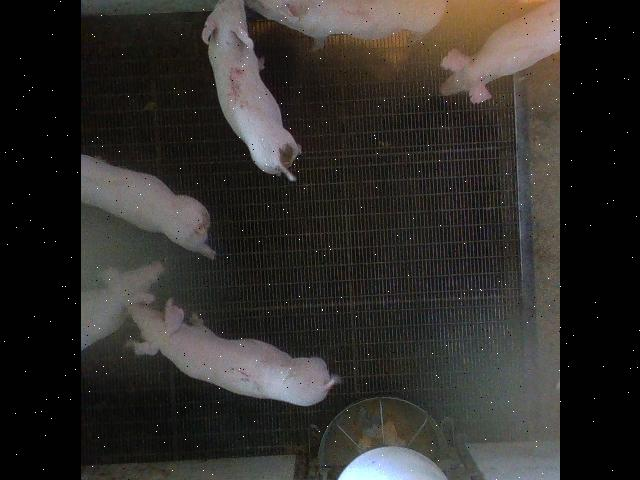pig-4: (244, 0, 446, 41)
pig-5: (201, 0, 300, 181)
